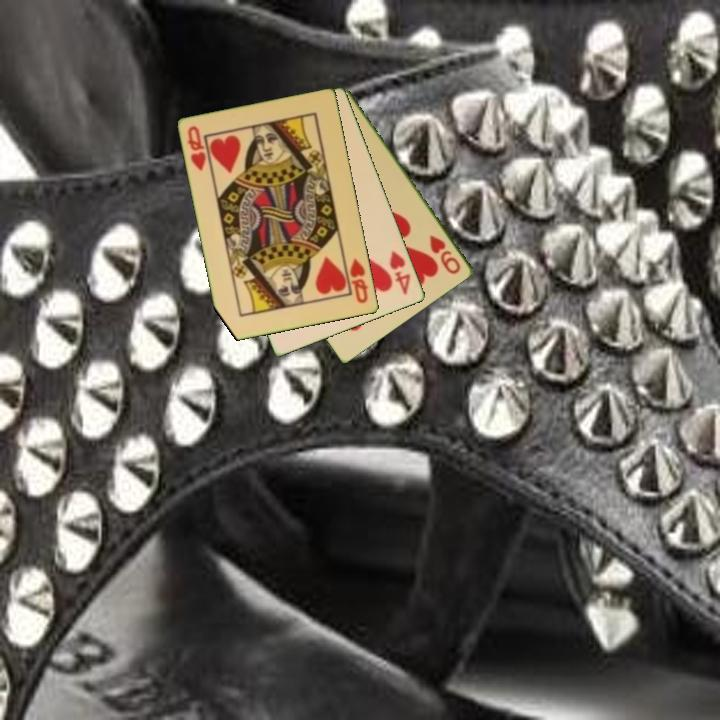4h: (386, 247, 414, 298)
9h: (426, 231, 464, 277)
Qh: (342, 254, 371, 306), (184, 123, 209, 174)
